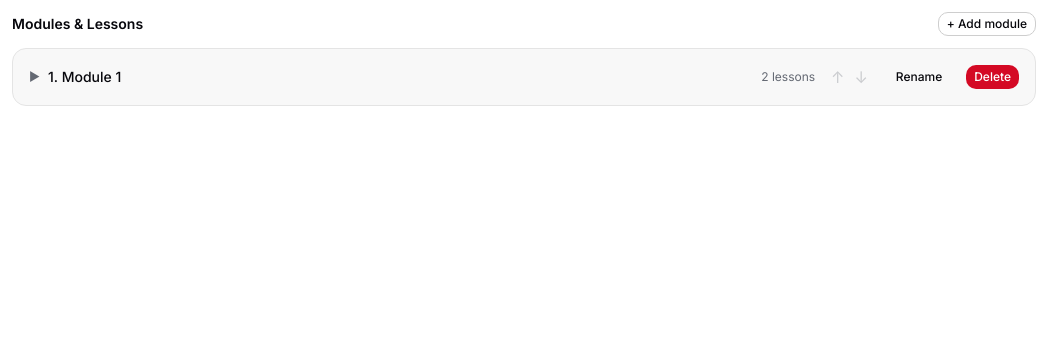
Test: ModuleManager — add lesson flow › opens the inline add-lesson form when + Add lesson is clicked
This screenshot has width=1048, height=360.
Click the text "1. Module 1".
click(85, 76)  # box [48, 68, 121, 85]
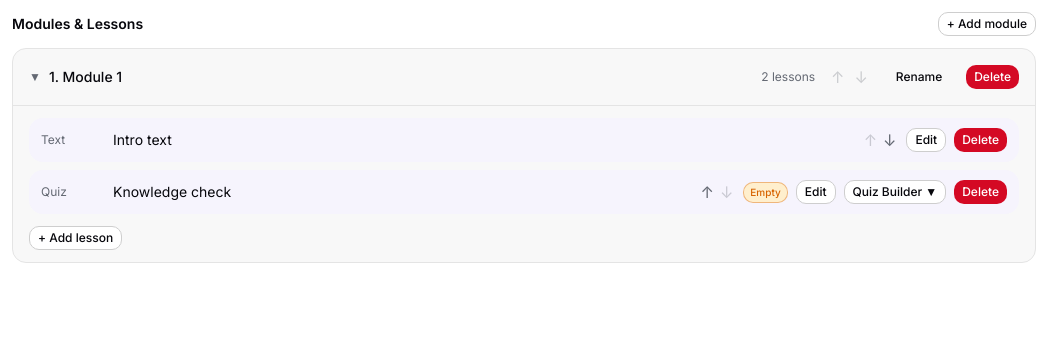
Click the button "+ Add lesson".
click(76, 238)  # box [29, 226, 122, 250]
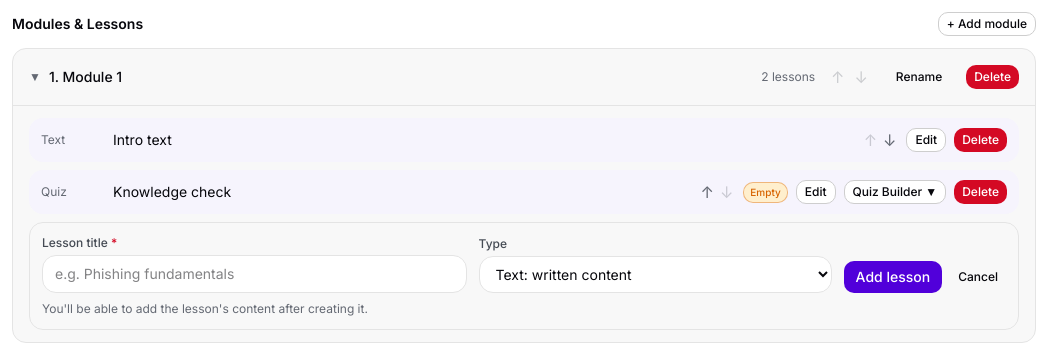
expect the button "Add lesson" is shown: met, box [844, 261, 942, 293]
expect the field with placeholder "e.g. Phishing fundamentals" is shown: met, box [42, 255, 467, 293]
